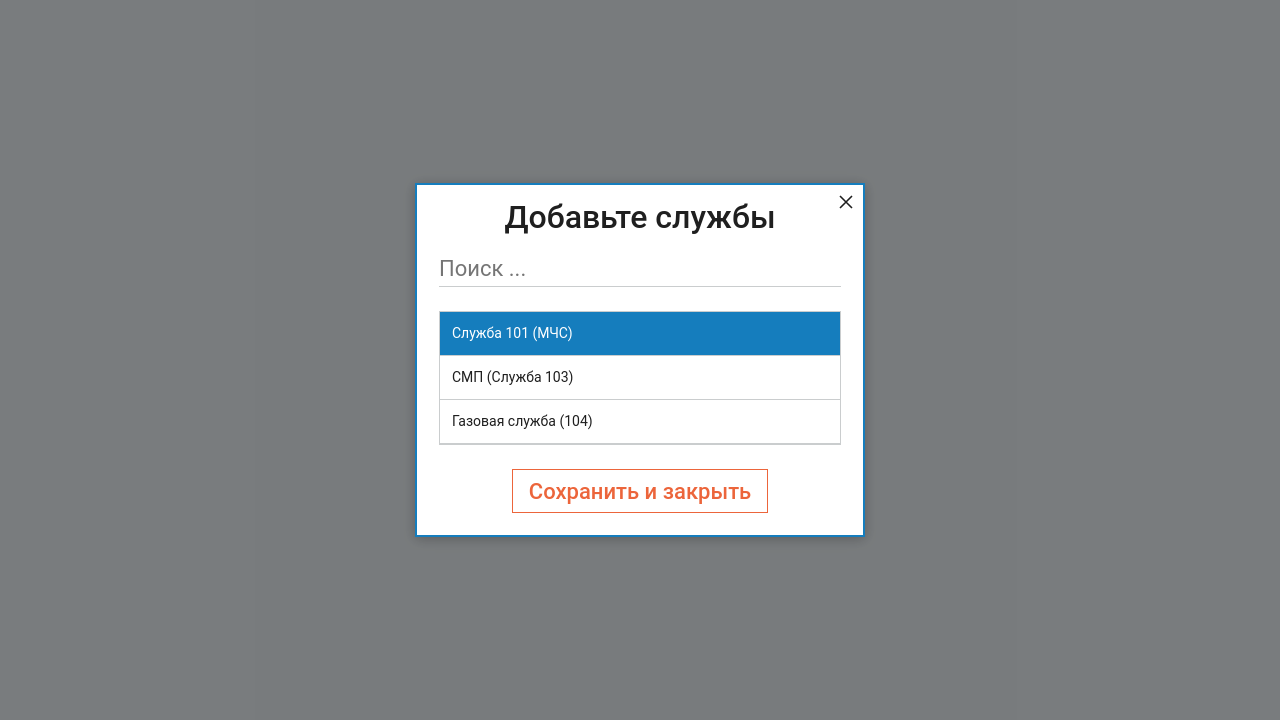
Test case: AddServicesWindow «Добавьте службы» › поиск фильтрует по подстроке без учёта регистра
Type "ГАЗ" into the field named "Поиск службы" at (640,269), box [439,251,841,287]
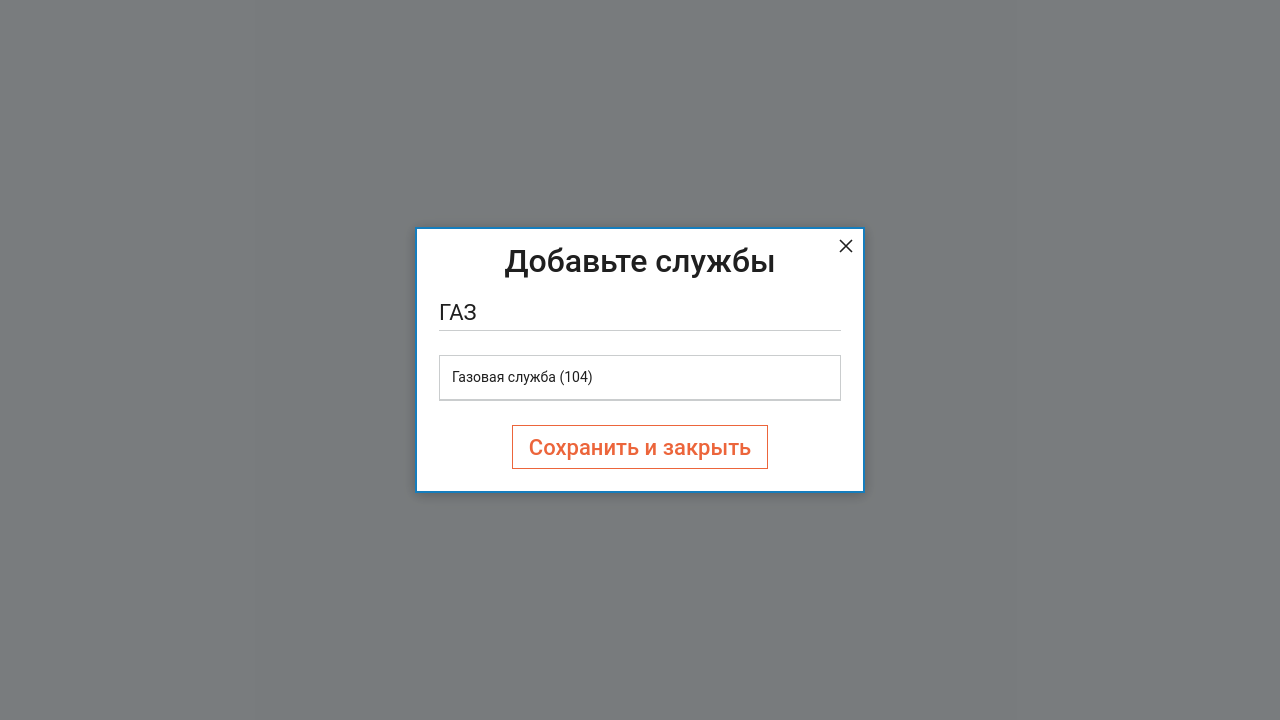
Expected: the button "Газовая служба (104)" is shown, [440,356,840,400]
Now the button "СМП (Служба 103)" is gone
